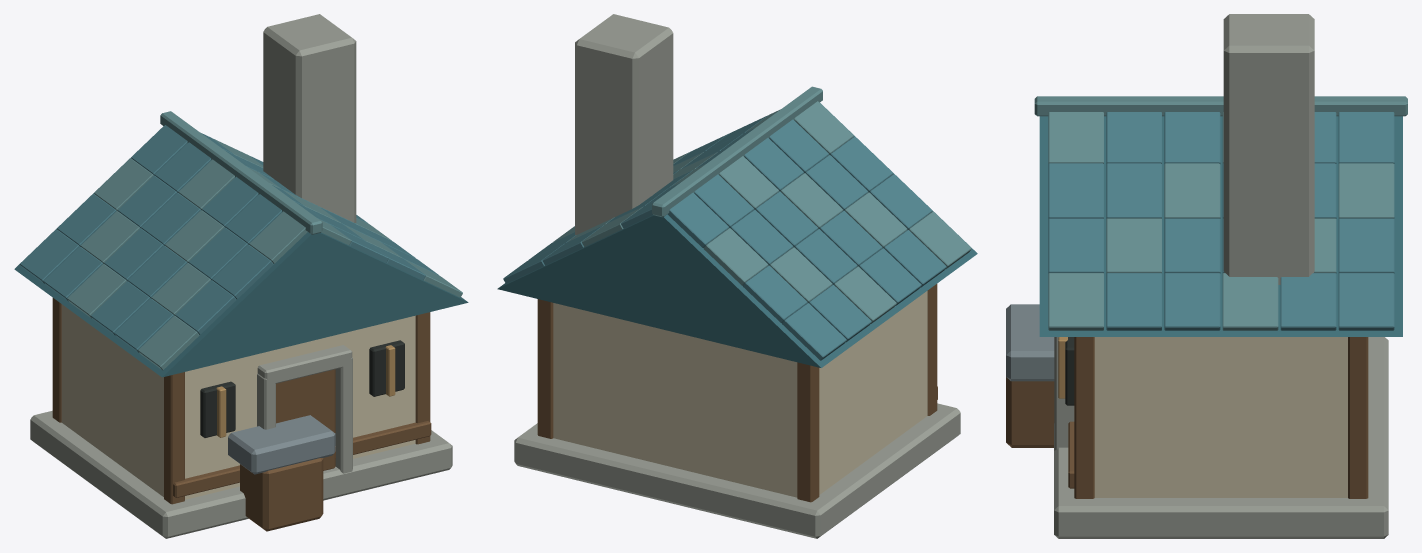
Rendered from forge.glb.
3 views of the same model, side by side, from view 1: azimuth 30°, elevation 25°; view 2: azimuth 150°, elevation 25°; view 3: azimuth 270°, elevation 25° (orthographic). The views are drawn at different scales.
Parts seen in each view (by area): view 1: Plaster walls.004, Solid gabled roof.004, Forge chimney, Foundation.004, Anvil base, Anvil, Ridge cap.004, Door.004, Front crossbeam.008, Corner timber.016, Lintel.004, Door post.009 (+29 smaller); view 2: Plaster walls.004, Solid gabled roof.004, Forge chimney, Foundation.004, Ridge cap.004, Corner timber.017, Corner timber.019, Overlapping slate.167, Overlapping slate.155, Overlapping slate.161, Overlapping slate.149, Overlapping slate.162 (+20 smaller); view 3: Plaster walls.004, Forge chimney, Foundation.004, Solid gabled roof.004, Ridge cap.004, Corner timber.018, Corner timber.019, Anvil, Overlapping slate.188, Overlapping slate.191, Anvil base, Overlapping slate.186 (+21 smaller).
Boxes of the visible parts, box(x1,y1,x2,y2) form: Plaster walls.004: box(61, 304, 415, 499); Solid gabled roof.004: box(14, 126, 468, 377); Forge chimney: box(263, 14, 356, 222); Foundation.004: box(30, 410, 452, 538); Anvil base: box(240, 458, 323, 531); Anvil: box(228, 415, 335, 474); Ridge cap.004: box(160, 111, 322, 234); Door.004: box(276, 369, 335, 470); Front crossbeam.008: box(173, 421, 431, 497); Corner timber.016: box(164, 372, 184, 504); Lintel.004: box(257, 345, 352, 384); Door post.009: box(335, 357, 352, 473); Plaster walls.004: box(553, 291, 927, 497); Solid gabled roof.004: box(497, 103, 977, 367); Forge chimney: box(575, 14, 673, 234); Foundation.004: box(514, 403, 960, 538); Ridge cap.004: box(652, 86, 822, 217); Corner timber.017: box(797, 362, 819, 502); Corner timber.019: box(537, 299, 553, 438); Overlapping slate.167: box(782, 303, 846, 360); Overlapping slate.155: box(703, 228, 768, 285); Overlapping slate.161: box(743, 265, 807, 323); Overlapping slate.149: box(667, 192, 729, 247); Overlapping slate.162: box(908, 211, 971, 269); Plaster walls.004: box(1094, 337, 1347, 497); Forge chimney: box(1223, 14, 1314, 284); Foundation.004: box(1054, 337, 1388, 538); Solid gabled roof.004: box(1039, 116, 1402, 336); Ridge cap.004: box(1034, 96, 1407, 116); Corner timber.018: box(1074, 337, 1094, 498); Corner timber.019: box(1348, 337, 1368, 498); Anvil: box(1006, 304, 1054, 381); Overlapping slate.188: box(1164, 273, 1220, 330); Overlapping slate.191: box(1338, 273, 1394, 330); Anvil base: box(1006, 377, 1054, 447); Overlapping slate.186: box(1048, 273, 1103, 330).
Size of the model in its own units: 4.55 by 5.5 by 4.2.
